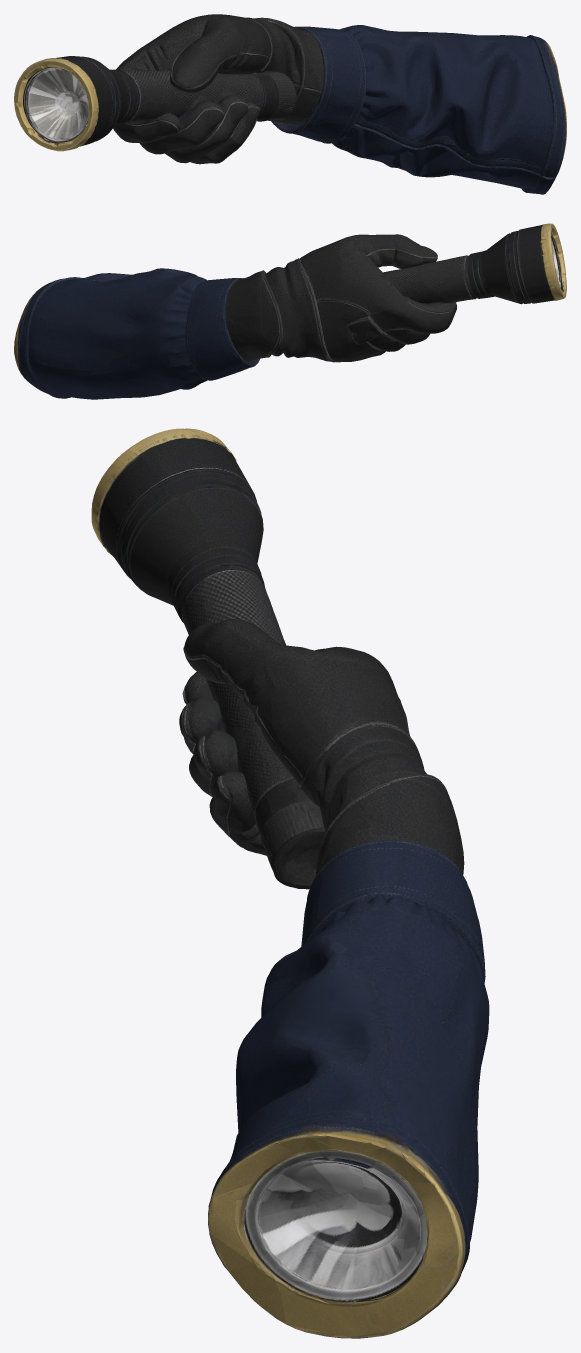
The model's file is watchGripV3.glb.
3 views of the same model, one above another, from view 1: azimuth 30°, elevation 25°; view 2: azimuth 150°, elevation 25°; view 3: azimuth 270°, elevation 25° (orthographic). The views are drawn at different scales.
Visible parts, largest first — view 1: Mesh_0; view 2: Mesh_0; view 3: Mesh_0.
Part boxes in pixels (box(x1,y1,x2,y2)): Mesh_0: box(14, 14, 566, 194); Mesh_0: box(14, 223, 566, 399); Mesh_0: box(91, 428, 489, 1338).
Size of the model in its own units: 1.9 by 0.8975 by 0.6737.
Materials: 1 (1 with a texture image).
